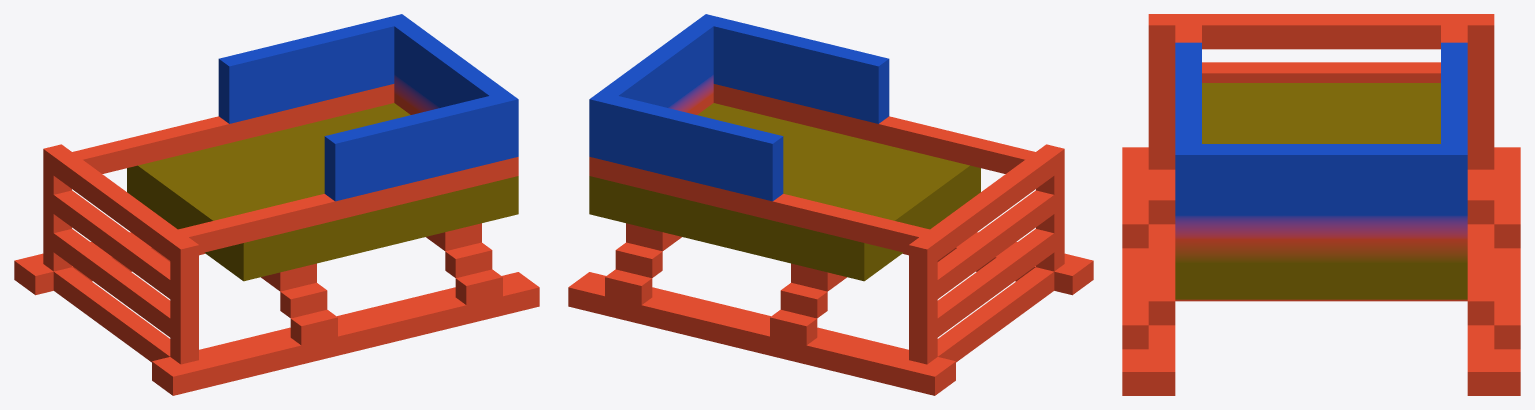
The model's file is Vehicle_15.fbx.
3 views of the same model, side by side, from view 1: azimuth 30°, elevation 25°; view 2: azimuth 150°, elevation 25°; view 3: azimuth 270°, elevation 25° (orthographic). The views are drawn at different scales.
Parts seen in each view (by area): view 1: Vehicle_15; view 2: Vehicle_15; view 3: Vehicle_15.
Part boxes in pixels (box(x1,y1,x2,y2)): Vehicle_15: box(14, 14, 539, 395); Vehicle_15: box(568, 14, 1093, 395); Vehicle_15: box(1122, 14, 1520, 395).
Bounding box in the file's own units: 20 × 10 × 15.
1 material, 1 textured.
